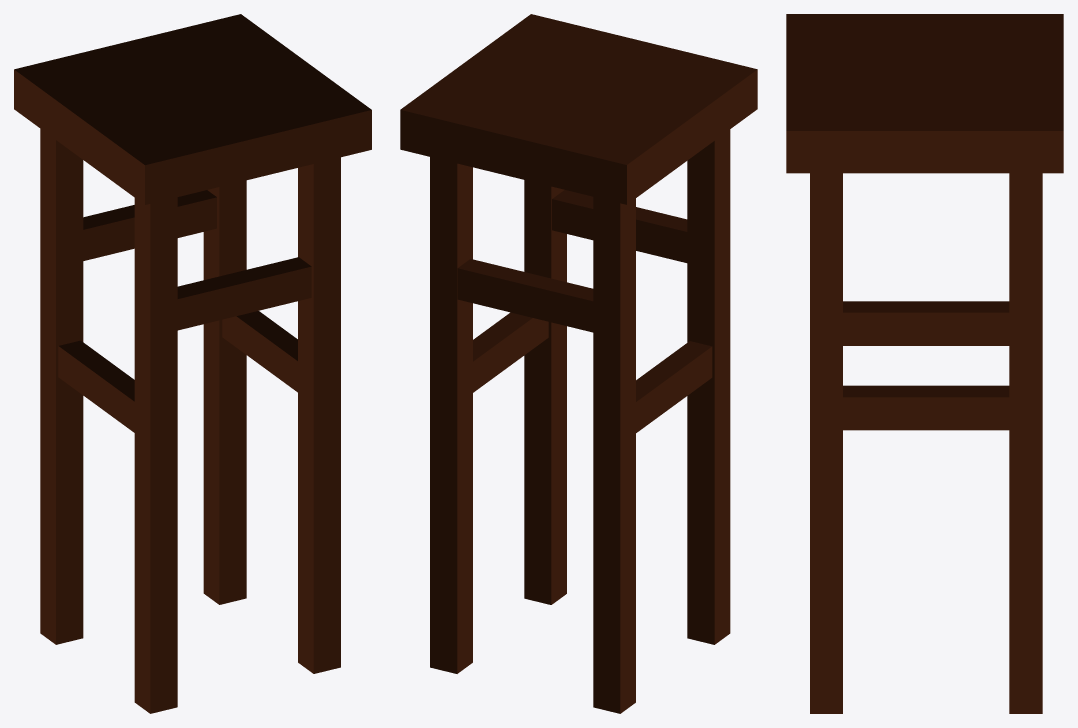
Rendered from Tall Stool.fbx.
3 views of the same model, side by side, from view 1: azimuth 30°, elevation 25°; view 2: azimuth 150°, elevation 25°; view 3: azimuth 270°, elevation 25° (orthographic). The views are drawn at different scales.
Visible parts, largest first — view 1: Node 0; view 2: Node 0; view 3: Node 0.
Boxes of the visible parts, x1,y1,x2,y2 form: Node 0: (14, 14, 371, 713); Node 0: (400, 14, 757, 713); Node 0: (786, 14, 1063, 713).
Size of the model in its own units: 0.4659 by 1.1 by 0.4659.
